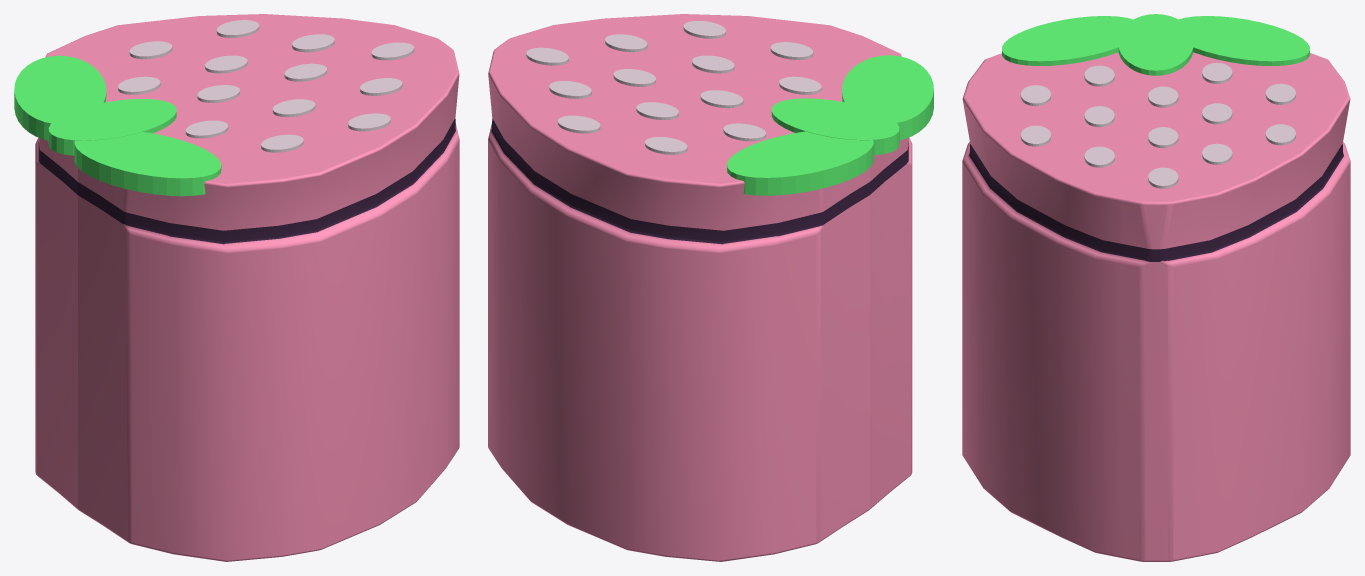
Rendered from bin.fbx.
3 renders of one model, left to right at view 1: azimuth 30°, elevation 25°; view 2: azimuth 150°, elevation 25°; view 3: azimuth 270°, elevation 25°, orthographic. The views are drawn at different scales.
Parts seen in each view (by area): view 1: bin; view 2: bin; view 3: bin.
Part boxes in pixels (x1,y1,x2,y2): bin: (14, 14, 459, 561); bin: (488, 14, 933, 561); bin: (962, 14, 1350, 561).
Bounding box in the file's own units: 183 × 170 × 164.
